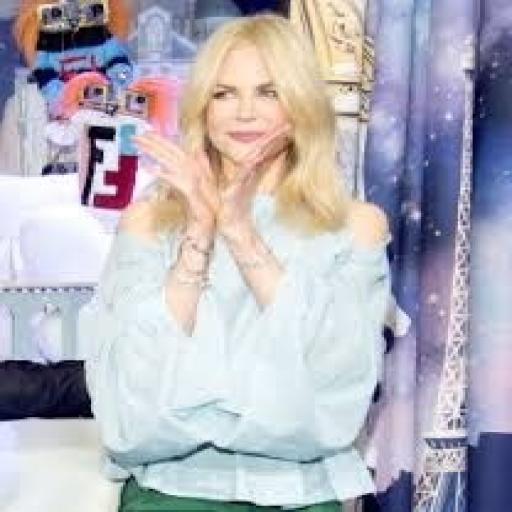clapping: (76, 10, 396, 510)
